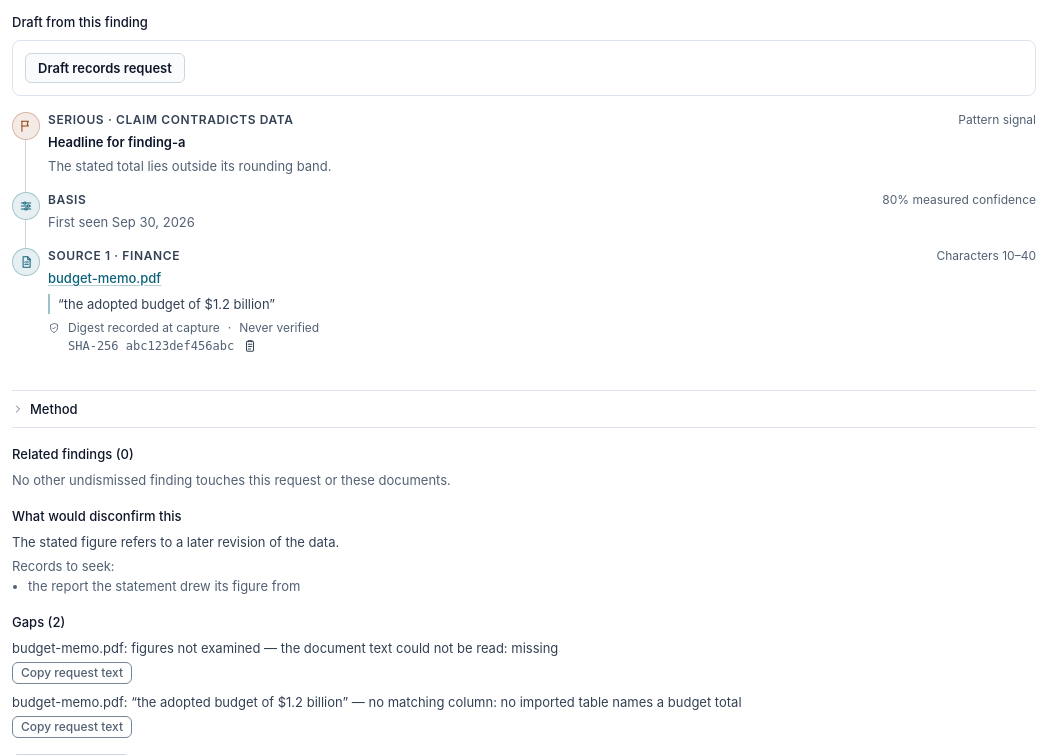
Test: LeadDossier › offers a request text per gap that quotes the claim and asks only for the records
Expected: the text "Headline for finding-a" is shown, [48,134,186,150]
Click the 2nd button "Copy request text": (72, 727) [12,716,132,738]
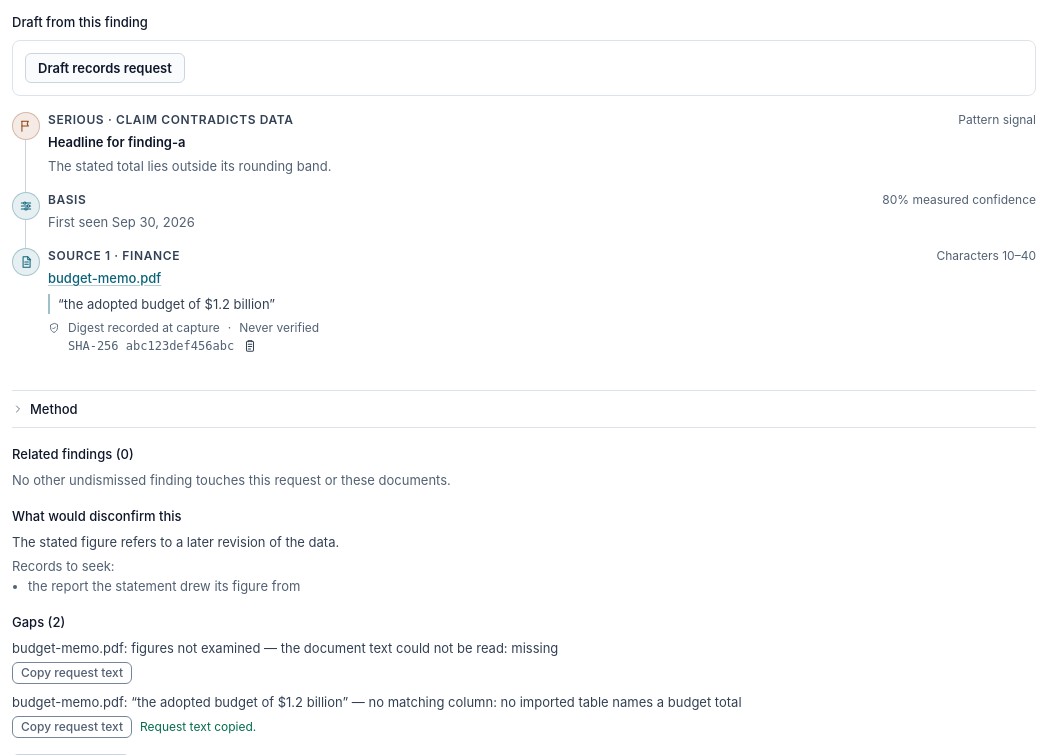
Result: the message reads "Request text copied." at [140,719,256,734]
